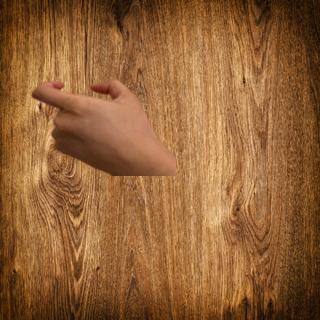HATE: (29, 74, 165, 175)
